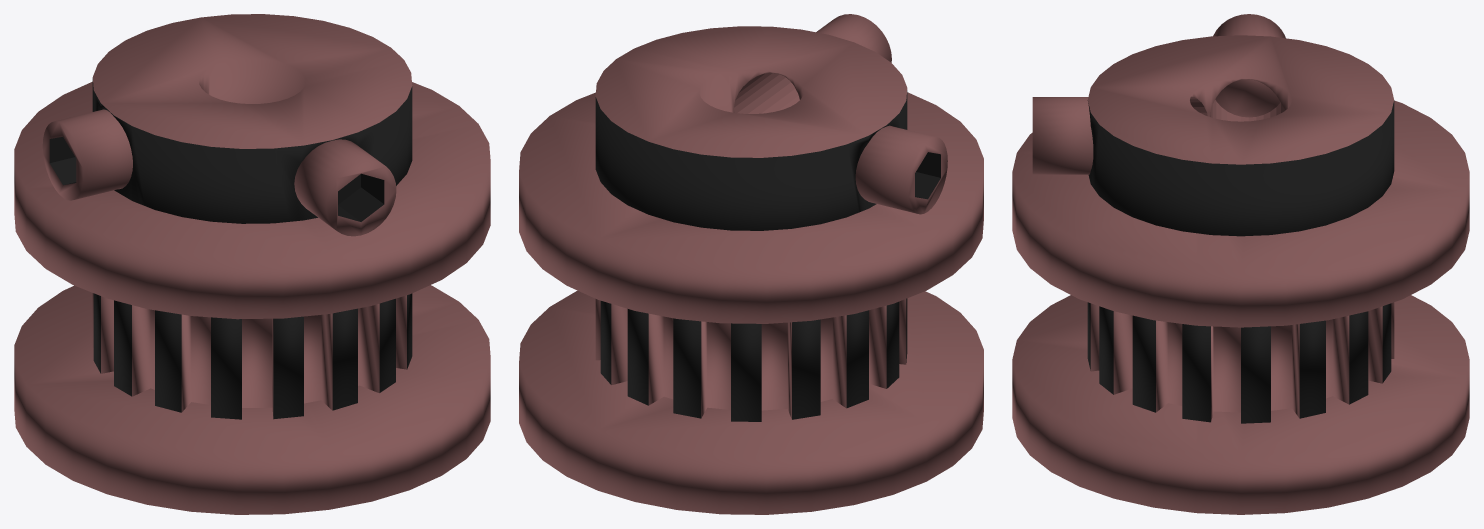
Rendered from nemapulley.glb.
The picture shows the model from 3 angles, left to right: view 1: azimuth 30°, elevation 25°; view 2: azimuth 150°, elevation 25°; view 3: azimuth 270°, elevation 25°; orthographic projection. The views are drawn at different scales.
Visible parts, largest first — view 1: pulley; view 2: pulley; view 3: pulley.
Part boxes in pixels (<box>): pulley: <box>14,14,490,514</box>; pulley: <box>519,14,983,514</box>; pulley: <box>1012,14,1469,514</box>.
Bounding box in the file's own units: 2.23 × 1.71 × 2.23.
2 materials, 1 textured.
